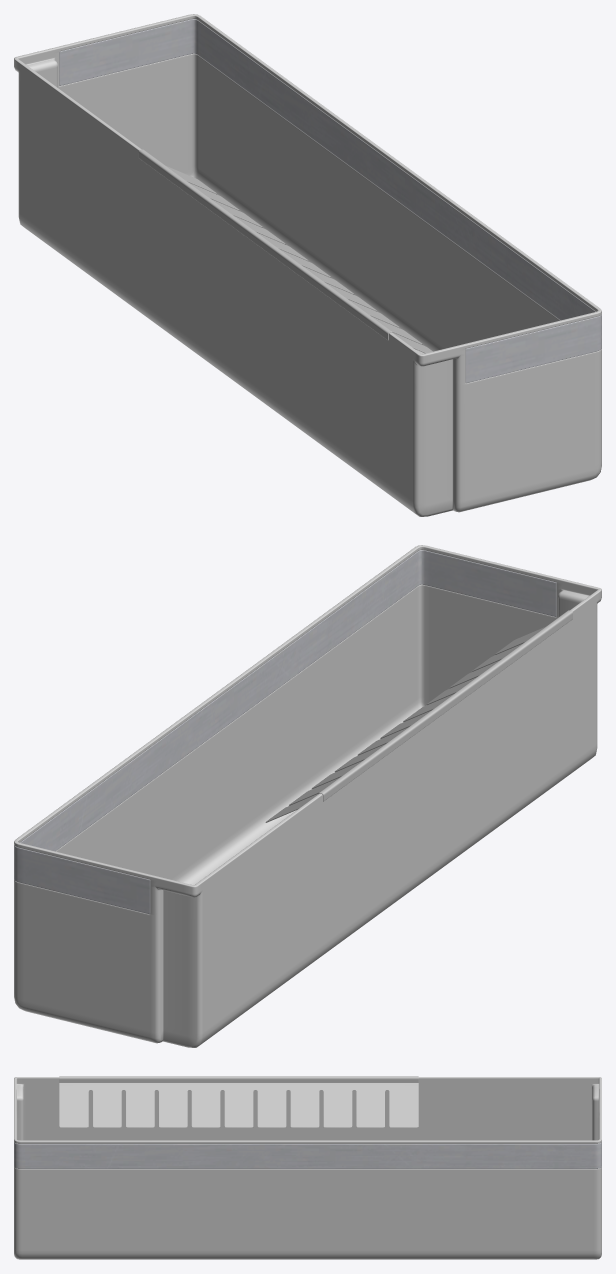
File: SM_Fridge_Door_Tray_01.dae
The picture shows the model from 3 angles, top to bottom: view 1: azimuth 30°, elevation 25°; view 2: azimuth 150°, elevation 25°; view 3: azimuth 270°, elevation 25°; orthographic projection. The views are drawn at different scales.
Parts seen in each view (by area): view 1: SM_Fridge_Door_Tray_01; view 2: SM_Fridge_Door_Tray_01; view 3: SM_Fridge_Door_Tray_01.
Part boxes in pixels (bbox=[...]): SM_Fridge_Door_Tray_01: bbox=[14, 14, 601, 516]; SM_Fridge_Door_Tray_01: bbox=[14, 545, 601, 1047]; SM_Fridge_Door_Tray_01: bbox=[14, 1076, 601, 1259].
Size of the model in its own units: 0.1105 by 0.422 by 0.0963.
